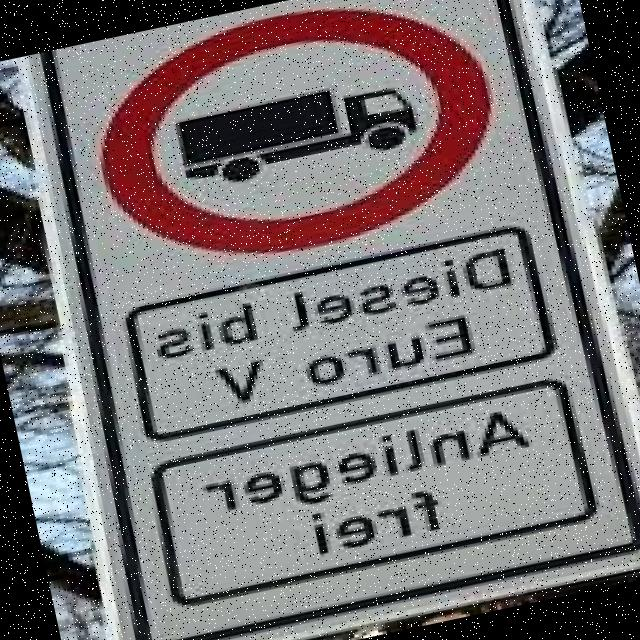do_not_enter: (71, 0, 522, 295)
